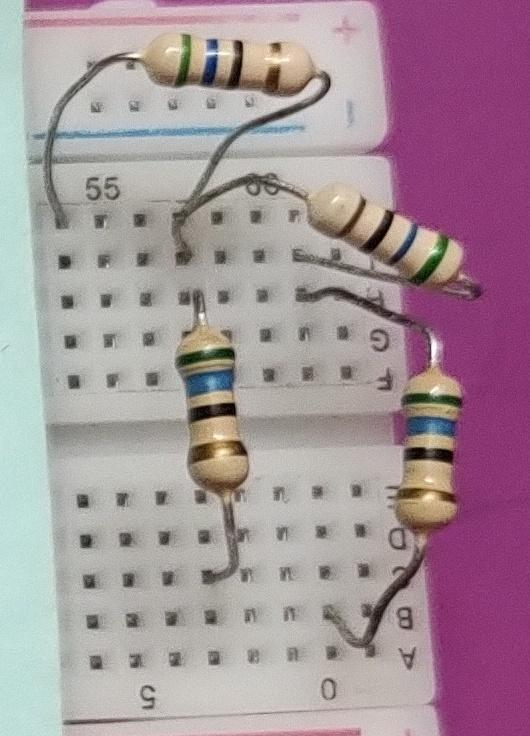resistor: (305, 176, 487, 298), (156, 322, 270, 516), (133, 18, 325, 112), (386, 362, 471, 537)
